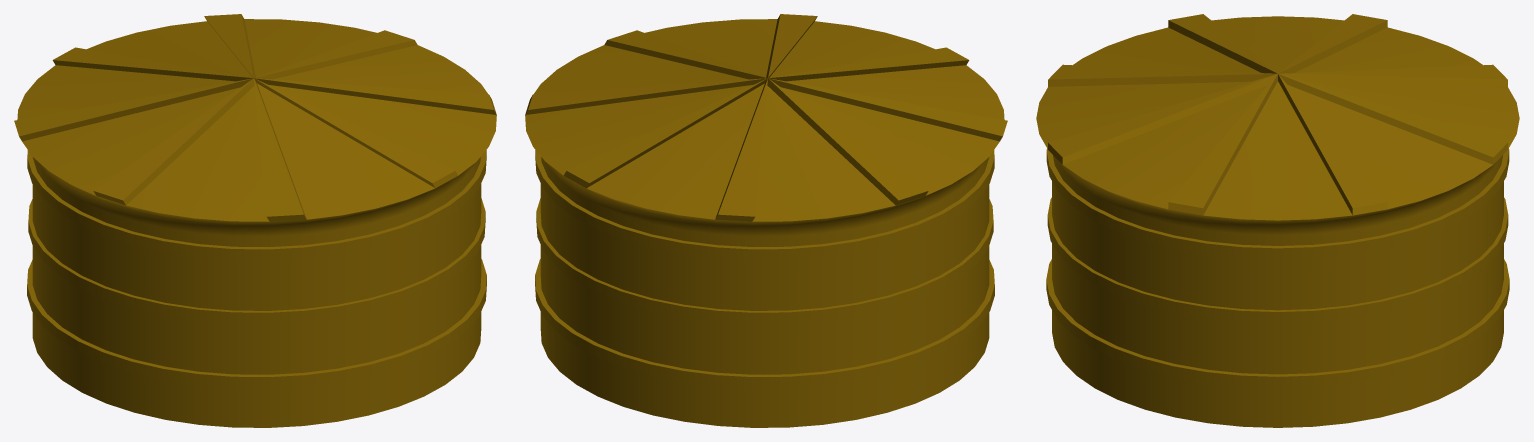
Rendered from barrel_2.fbx.
3 views of the same model, side by side, from view 1: azimuth 30°, elevation 25°; view 2: azimuth 150°, elevation 25°; view 3: azimuth 270°, elevation 25° (orthographic).
Parts seen in each view (by area): view 1: pCylinder23; view 2: pCylinder23; view 3: pCylinder23.
Part boxes in pixels (x1,y1,x2,y2): pCylinder23: [14, 14, 496, 427]; pCylinder23: [525, 14, 1007, 427]; pCylinder23: [1036, 14, 1519, 427].
Size of the model in its own units: 58.71 by 34.47 by 58.71.
